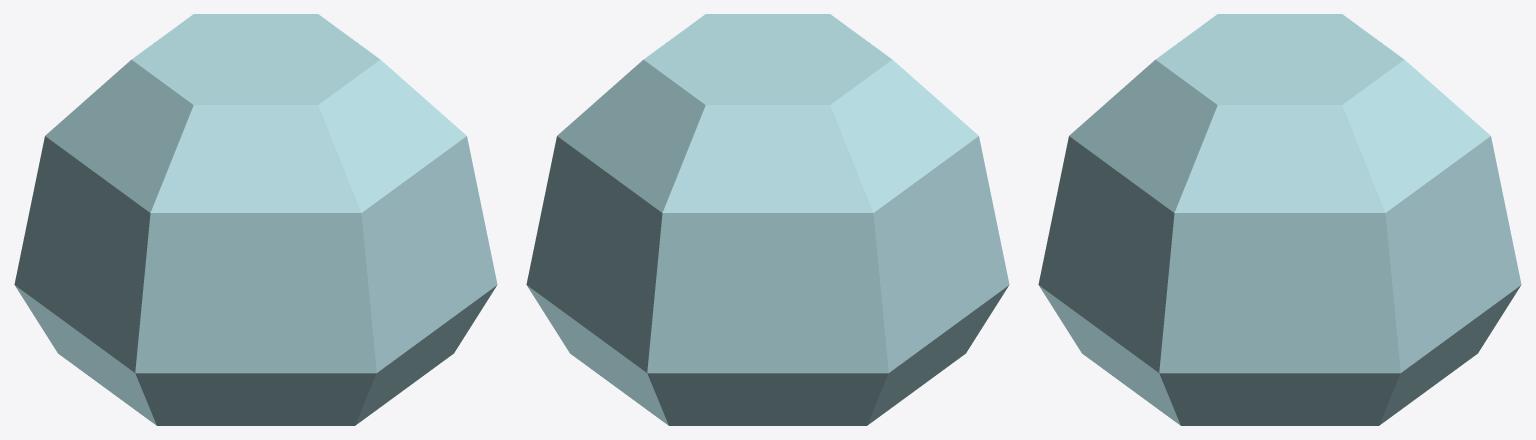
File: stone_smallI.fbx
3 renders of one model, left to right at view 1: azimuth 30°, elevation 25°; view 2: azimuth 150°, elevation 25°; view 3: azimuth 270°, elevation 25°, orthographic.
Parts seen in each view (by area): view 1: stone_smallI; view 2: stone_smallI; view 3: stone_smallI.
Part boxes in pixels (box(x1,y1,x2,y2)): stone_smallI: box(14, 14, 497, 425); stone_smallI: box(526, 14, 1009, 425); stone_smallI: box(1038, 14, 1521, 425).
Bounding box in the file's own units: 3.58 × 2.78 × 4.14.
